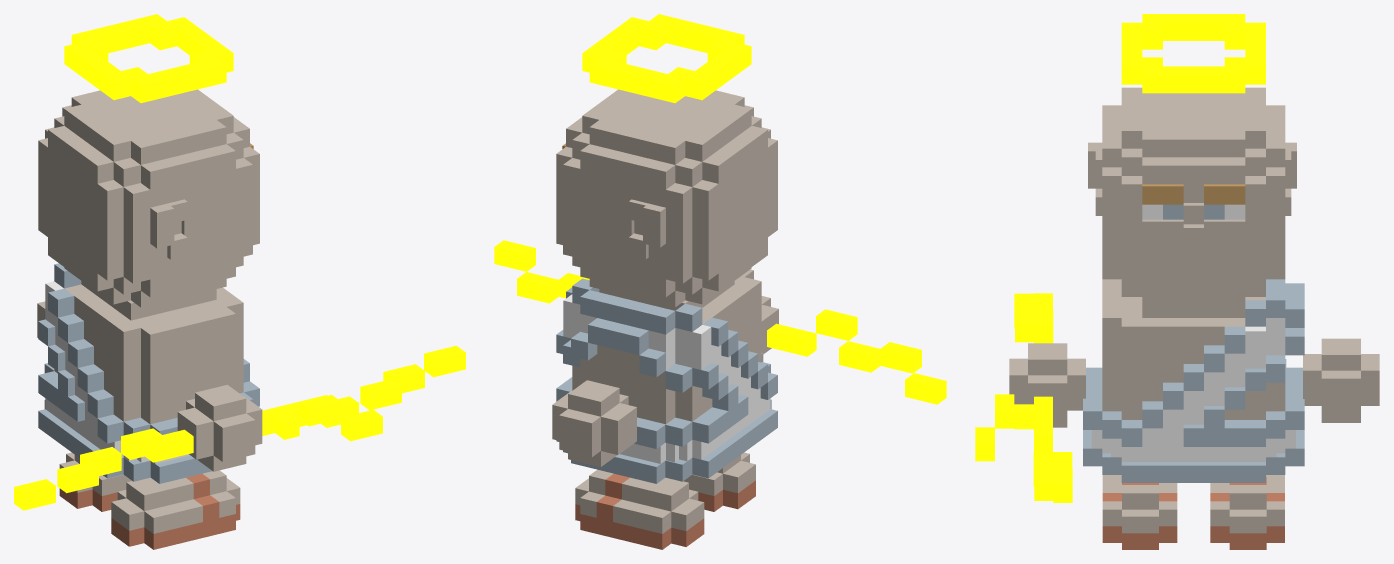
File: Ranged Angel.fbx
The picture shows the model from 3 angles, left to right: view 1: azimuth 30°, elevation 25°; view 2: azimuth 150°, elevation 25°; view 3: azimuth 270°, elevation 25°; orthographic projection. The views are drawn at different scales.
Parts seen in each view (by area): view 1: Head, Torso, Lightning, Halo, FootRight, HandRight, FootLeft; view 2: Head, Torso, Halo, FootLeft, Lightning, HandLeft, FootRight, HandRight; view 3: Head, Torso, Halo, Lightning, HandLeft, FootRight, FootLeft, HandRight.
Part boxes in pixels (bbox=[...]): Head: bbox=[38, 89, 259, 307]; Torso: bbox=[38, 263, 259, 483]; Lightning: bbox=[14, 345, 465, 510]; Halo: bbox=[64, 14, 233, 103]; FootRight: bbox=[111, 470, 240, 549]; HandRight: bbox=[177, 384, 262, 471]; FootLeft: bbox=[59, 452, 131, 511]; Head: bbox=[556, 89, 777, 307]; Torso: bbox=[556, 269, 777, 483]; Halo: bbox=[582, 14, 751, 103]; FootLeft: bbox=[575, 469, 704, 549]; Lightning: bbox=[494, 240, 946, 404]; HandLeft: bbox=[552, 380, 636, 467]; FootRight: bbox=[683, 452, 755, 511]; HandRight: bbox=[761, 296, 778, 354]; Head: bbox=[1088, 87, 1296, 305]; Torso: bbox=[1083, 279, 1304, 482]; Halo: bbox=[1121, 14, 1265, 93]; Lightning: bbox=[975, 293, 1072, 502]; HandLeft: bbox=[1303, 338, 1379, 422]; FootRight: bbox=[1102, 475, 1177, 549]; FootLeft: bbox=[1210, 475, 1284, 549]; HandRight: bbox=[1009, 343, 1085, 427].
Size of the model in its own units: 738 by 730 by 561.
